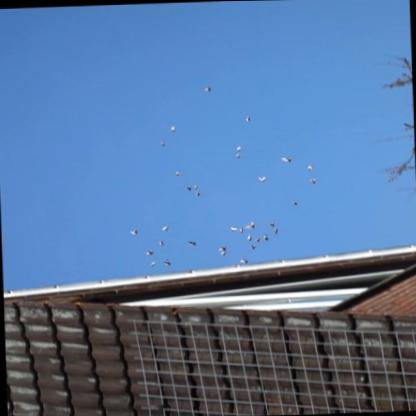bird: (243, 219, 257, 229), (217, 243, 227, 256), (278, 155, 291, 162), (306, 162, 317, 170), (271, 226, 281, 234), (262, 231, 270, 241), (161, 223, 171, 231), (145, 248, 155, 256), (242, 115, 253, 122), (309, 176, 318, 184), (239, 256, 248, 264), (130, 228, 139, 236), (162, 257, 171, 265), (201, 84, 211, 91), (173, 169, 183, 176), (257, 175, 267, 182), (228, 224, 239, 230), (186, 239, 197, 245), (254, 234, 262, 242), (233, 151, 242, 158), (193, 188, 202, 195), (193, 180, 200, 189), (169, 124, 177, 131), (158, 138, 166, 145), (245, 233, 253, 240), (157, 239, 165, 246), (267, 221, 276, 227), (292, 199, 299, 206), (249, 242, 256, 249), (234, 145, 242, 151), (184, 185, 192, 191), (238, 226, 245, 232), (149, 261, 156, 267)
